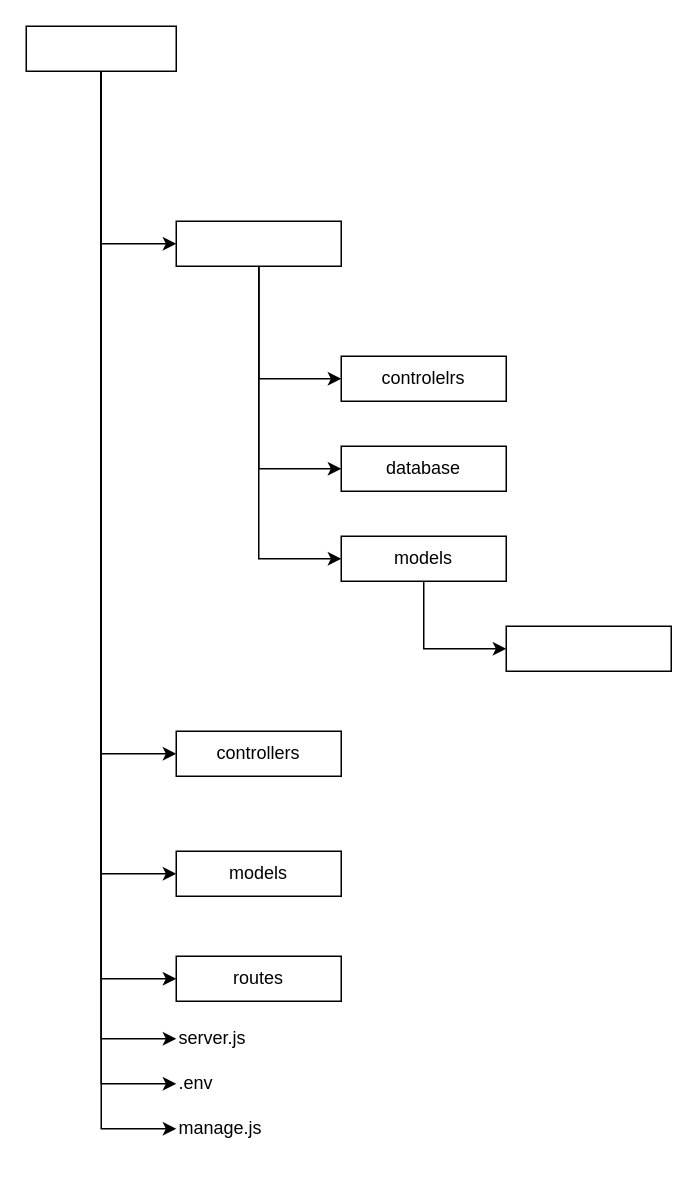
Some shapes in this 698 by 1178 pixel diagram are drawn without their labels. Here are the shapes that lost their labels. From the top down, the box of each, then its label:
(25, 25, 176, 71): root
(175, 220, 341, 266): config
(505, 625, 671, 671): fields
